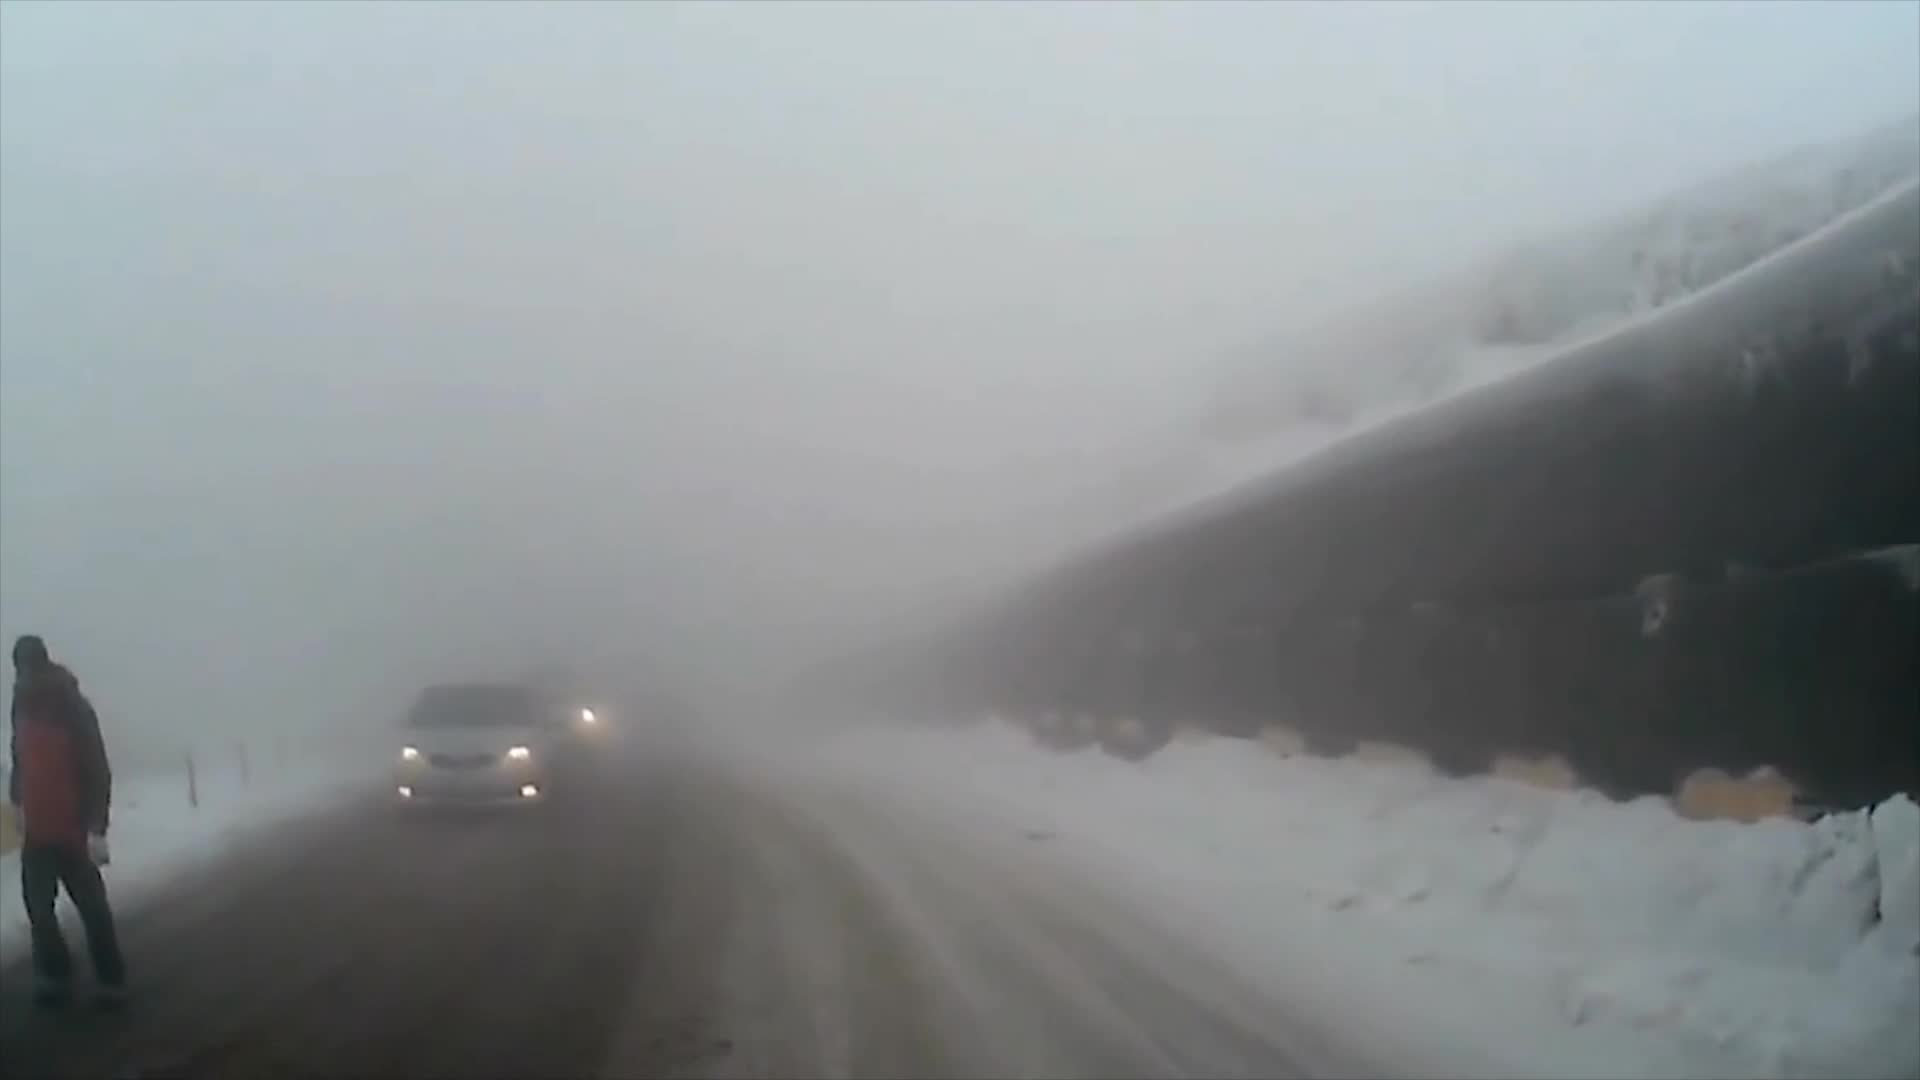pedestrian: (6, 633, 133, 1003)
vehicle: (379, 679, 563, 823)
